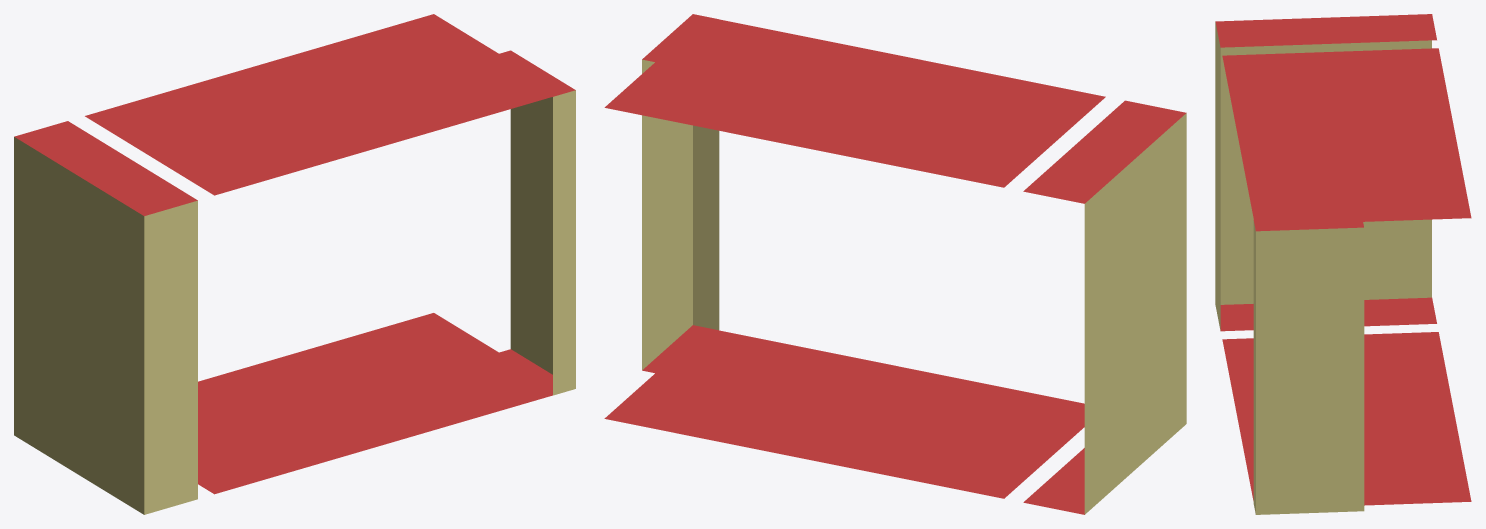
3 views of the same model, side by side, from view 1: azimuth 30°, elevation 25°; view 2: azimuth 150°, elevation 25°; view 3: azimuth 270°, elevation 25° (orthographic). The views are drawn at different scales.
Size of the model in its own units: 9.66 by 4.81 by 5.88.
